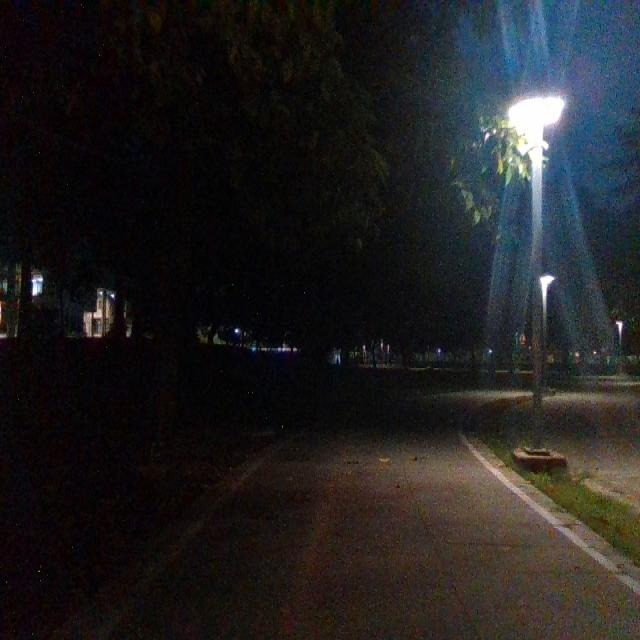lane: (111, 427, 640, 637)
